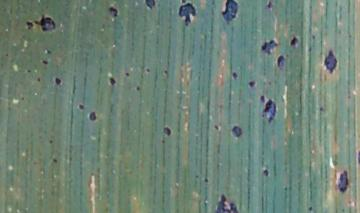tarspot: (215, 194, 240, 213), (178, 1, 196, 27), (35, 14, 56, 33), (222, 1, 238, 24), (323, 50, 337, 74), (263, 100, 277, 123), (337, 171, 349, 192), (262, 40, 278, 55), (109, 5, 119, 17), (278, 55, 285, 71), (232, 127, 242, 137), (145, 1, 156, 10), (290, 37, 299, 47), (162, 127, 171, 137), (26, 20, 34, 30), (89, 111, 97, 121), (109, 76, 117, 85), (266, 1, 273, 11), (263, 168, 270, 177), (213, 124, 220, 133), (55, 77, 62, 85), (318, 105, 325, 113), (249, 80, 256, 87), (144, 66, 151, 73), (41, 59, 48, 65), (78, 104, 85, 110), (232, 73, 238, 80), (52, 157, 58, 164), (204, 177, 210, 184), (311, 33, 317, 40), (135, 85, 141, 91), (125, 72, 131, 78), (163, 69, 170, 74), (260, 96, 265, 102), (49, 138, 54, 144), (27, 68, 32, 73), (5, 52, 10, 57), (307, 206, 313, 210), (37, 77, 41, 82)
